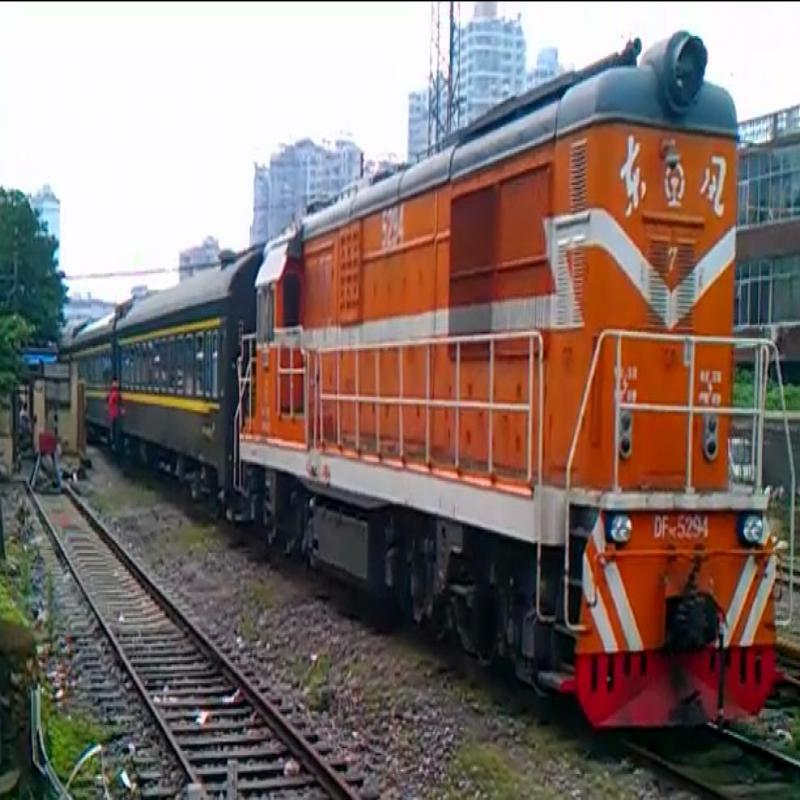train: (234, 11, 787, 736)
